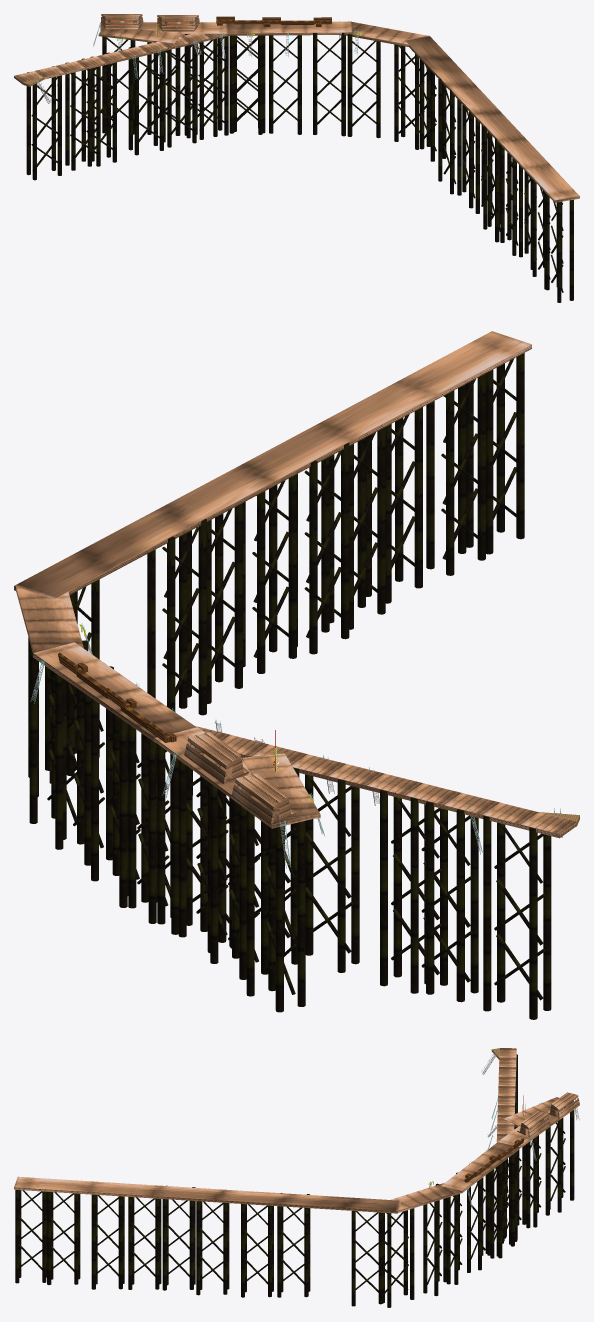
The model's file is Strandpark2.glb.
The picture shows the model from 3 angles, top to bottom: view 1: azimuth 30°, elevation 25°; view 2: azimuth 150°, elevation 25°; view 3: azimuth 270°, elevation 25°; orthographic projection. The views are drawn at different scales.
Visible parts, largest first — view 1: Bridge2, Cube, CSGCylinder3D28, Cube2, CSGCylinder3D56, CSGCylinder3D220, CSGCylinder3D216, CSGCylinder3D520, CSGCylinder3D26, CSGCylinder3D528, CSGCylinder3D1228, CSGCylinder3D542 (+43 smaller); view 2: Bridge2, Cube2, Cube, CSGCylinder3D1244, CSGCylinder3D1246, CSGCylinder3D516, CSGCylinder3D520, CSGCylinder3D340, CSGCylinder3D344, CSGCylinder3D220, CSGCylinder3D342, CSGCylinder3D346 (+58 smaller); view 3: Bridge2, Cube2, Cube, CSGCylinder3D1212, CSGCylinder3D1222, CSGCylinder3D128, CSGCylinder3D1210, CSGCylinder3D1248, CSGCylinder3D1218, CSGCylinder3D1228, CSGCylinder3D322, CSGCylinder3D1226 (+26 smaller).
Part boxes in pixels (bbox=[...]): Bridge2: bbox=[14, 21, 579, 202]; Cube: bbox=[157, 15, 199, 31]; CSGCylinder3D28: bbox=[347, 34, 352, 136]; Cube2: bbox=[101, 14, 143, 29]; CSGCylinder3D56: bbox=[341, 33, 345, 136]; CSGCylinder3D220: bbox=[483, 126, 487, 229]; CSGCylinder3D216: bbox=[438, 78, 442, 181]; CSGCylinder3D520: bbox=[495, 137, 499, 242]; CSGCylinder3D26: bbox=[313, 33, 317, 134]; CSGCylinder3D528: bbox=[557, 202, 561, 302]; CSGCylinder3D1228: bbox=[569, 199, 573, 300]; CSGCylinder3D542: bbox=[112, 62, 116, 162]; Bridge2: bbox=[14, 331, 579, 838]; Cube2: bbox=[231, 773, 295, 826]; Cube: bbox=[184, 732, 249, 784]; CSGCylinder3D1244: bbox=[410, 797, 418, 993]; CSGCylinder3D1246: bbox=[483, 815, 491, 1011]; CSGCylinder3D516: bbox=[198, 519, 206, 715]; CSGCylinder3D520: bbox=[341, 443, 349, 639]; CSGCylinder3D340: bbox=[337, 779, 345, 972]; CSGCylinder3D344: bbox=[456, 809, 464, 1002]; CSGCylinder3D220: bbox=[309, 460, 317, 654]; CSGCylinder3D342: bbox=[426, 801, 434, 994]; CSGCylinder3D346: bbox=[529, 827, 537, 1019]; Bridge2: bbox=[14, 1048, 579, 1213]; Cube2: bbox=[547, 1092, 579, 1119]; Cube: bbox=[517, 1111, 549, 1137]; CSGCylinder3D1212: bbox=[351, 1211, 355, 1306]; CSGCylinder3D1222: bbox=[91, 1194, 95, 1289]; CSGCylinder3D128: bbox=[434, 1200, 438, 1296]; CSGCylinder3D1210: bbox=[387, 1213, 391, 1307]; CSGCylinder3D1248: bbox=[498, 1163, 502, 1258]; CSGCylinder3D1218: bbox=[196, 1201, 200, 1295]; CSGCylinder3D1228: bbox=[15, 1190, 19, 1283]; CSGCylinder3D322: bbox=[118, 1196, 122, 1289]; CSGCylinder3D1226: bbox=[47, 1191, 51, 1284].
Bounding box in the file's own units: 73.37 × 24.91 × 107.
Materials: 94 (10 with a texture image).
